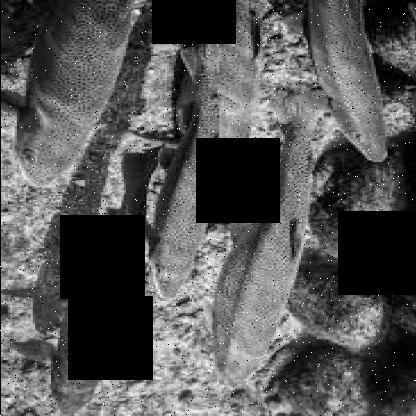fish: (16, 145, 176, 413), (209, 87, 341, 385), (115, 37, 224, 299), (274, 0, 391, 161)
